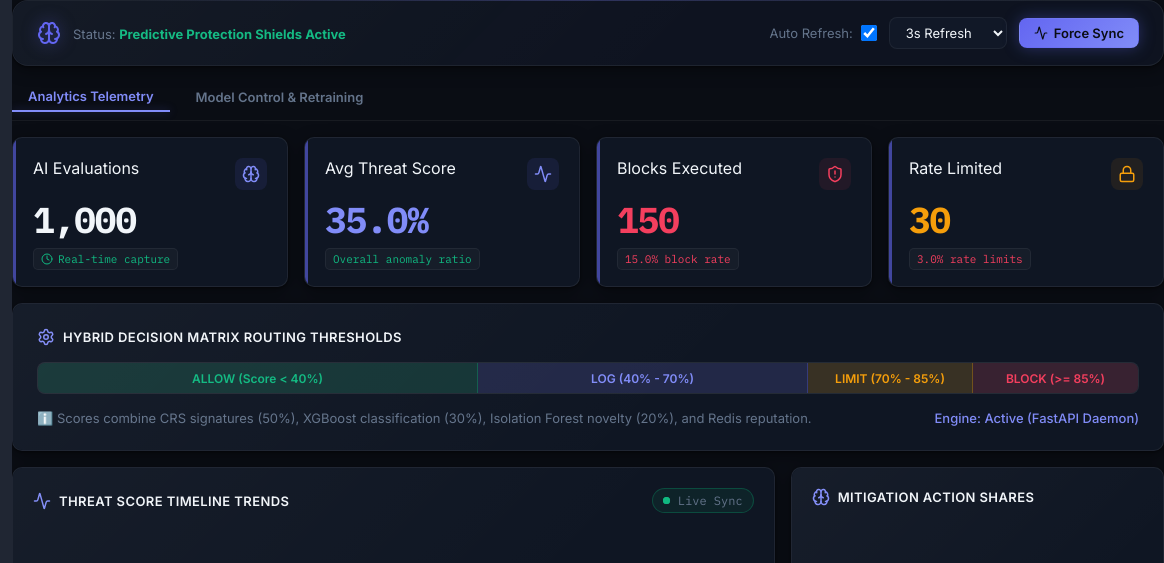
MLEngine — model management tab › fetches and renders model info, backups and drift history
Click the button "Model Control & Retraining": (279, 97) x1=180 y1=82 x2=379 y2=112
(page scrolled)
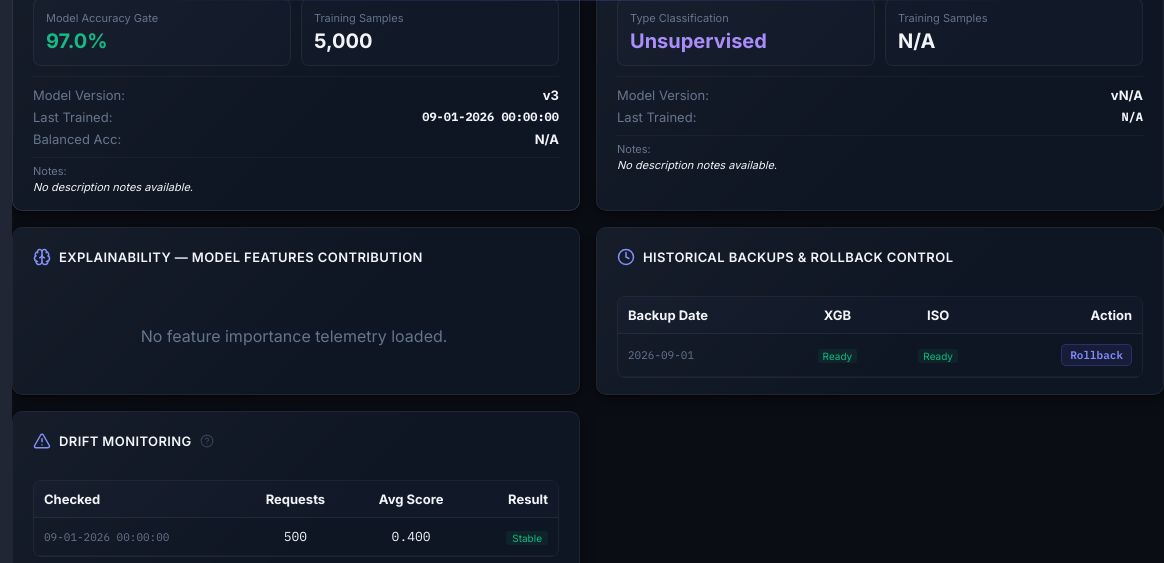
Expected: the text "97.0%" is shown, x1=46 y1=29 x2=108 y2=53
Expected: the text "2026-09-01" is shown, x1=618 y1=334 x2=787 y2=376
Expected: the text "Stable" is shown, x1=506 y1=530 x2=548 y2=544
